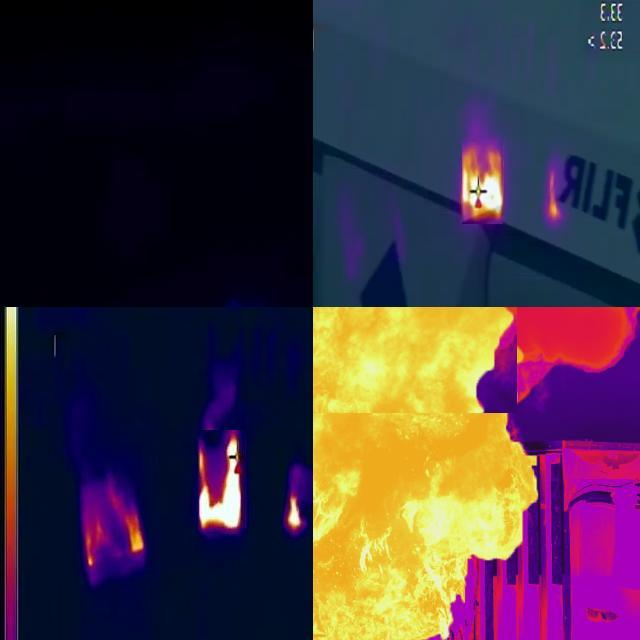fire: (312, 307, 543, 639), (199, 431, 246, 535), (463, 141, 504, 225), (287, 494, 303, 535)
